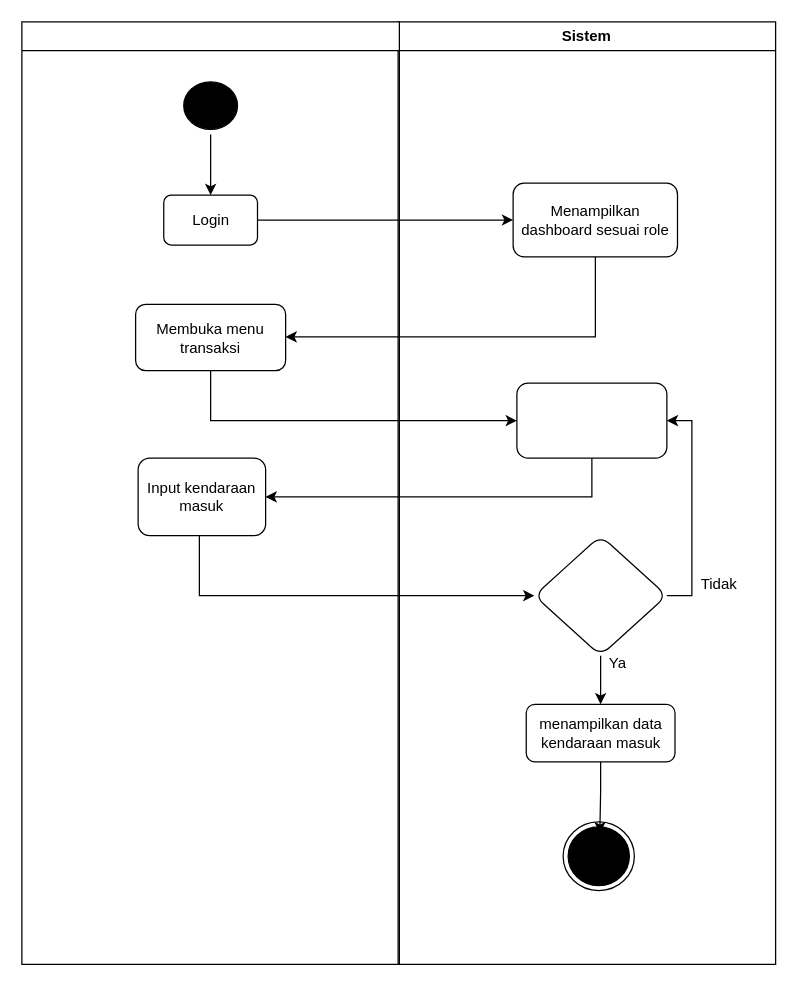
Some shapes in this 798 by 986 pixel diagram are drawn without their labels. Here are the shapes that lost their labels. From the top down, the box of each, then its label:
(516, 382, 667, 458): Menampilkan tabel transaksi
(21, 21, 399, 964): User
(533, 534, 667, 656): berhasil?
